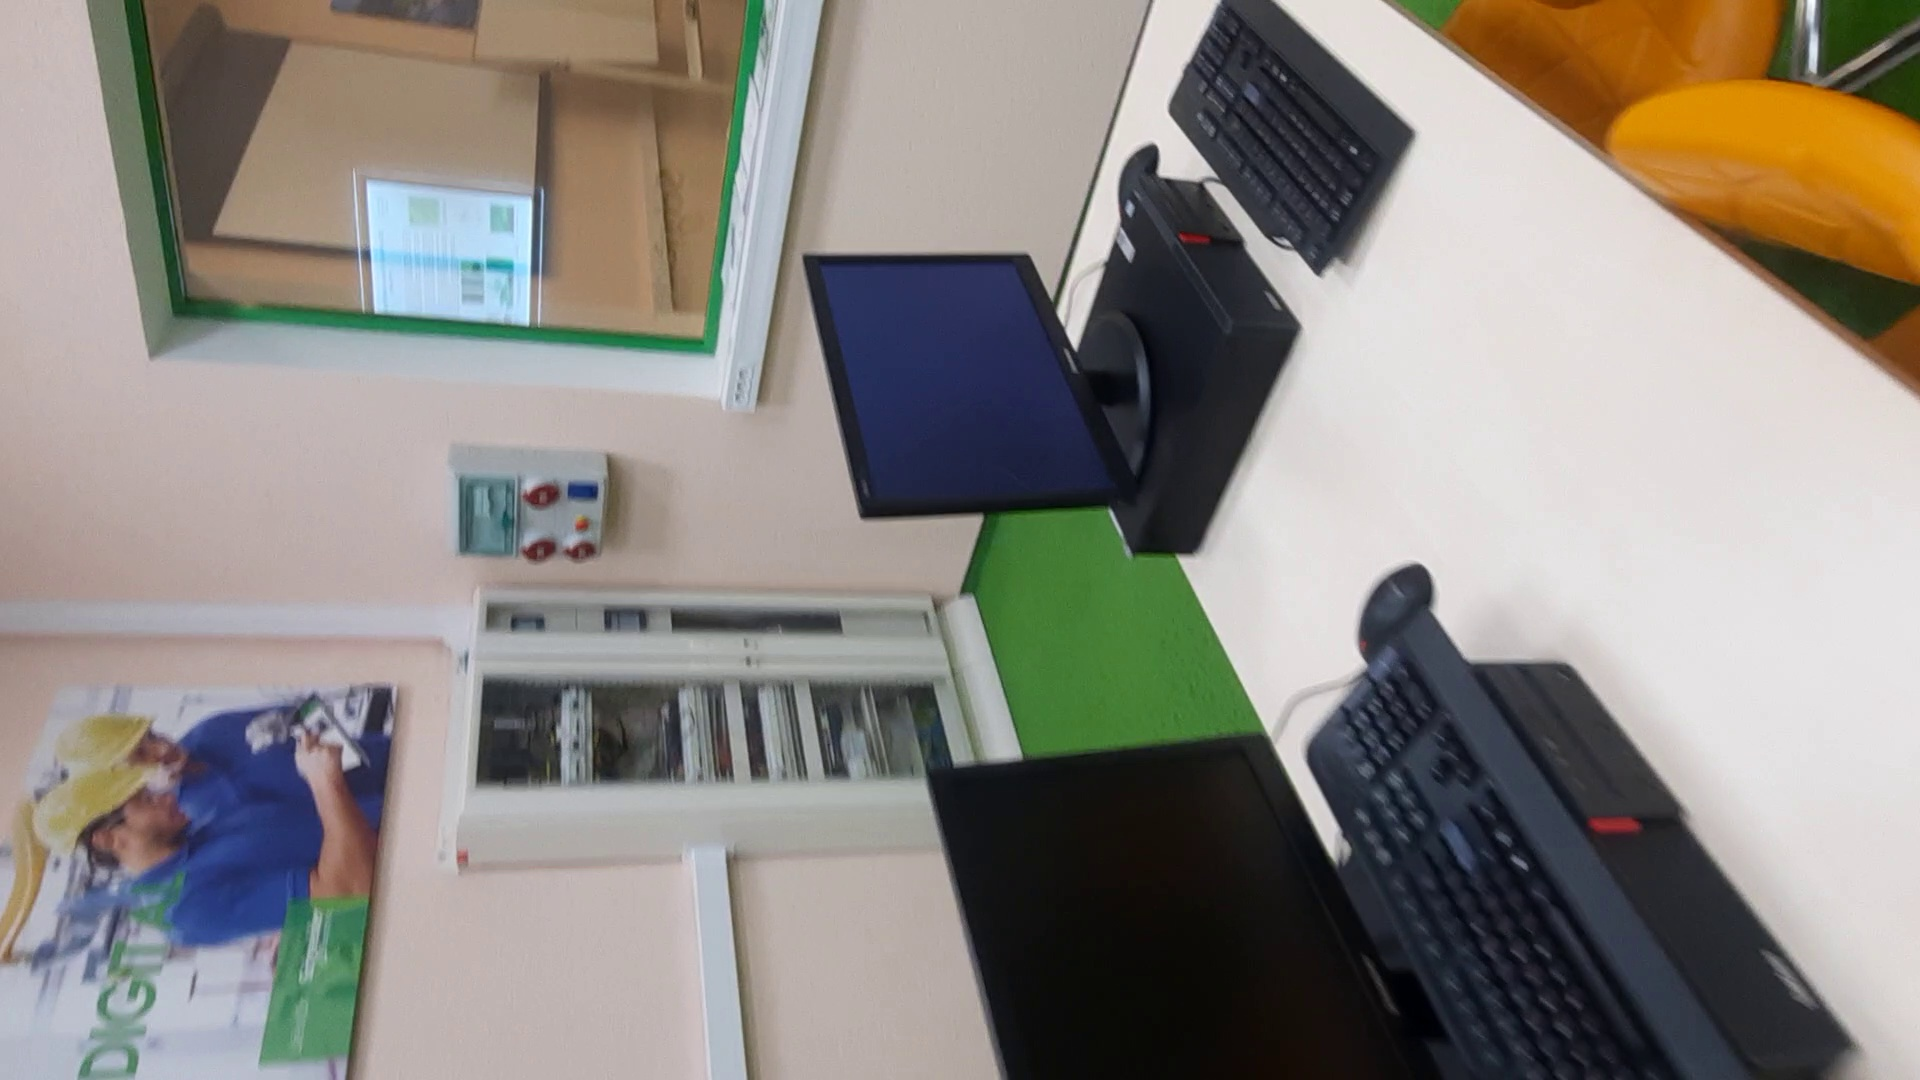stand1: (454, 564, 1031, 860)
